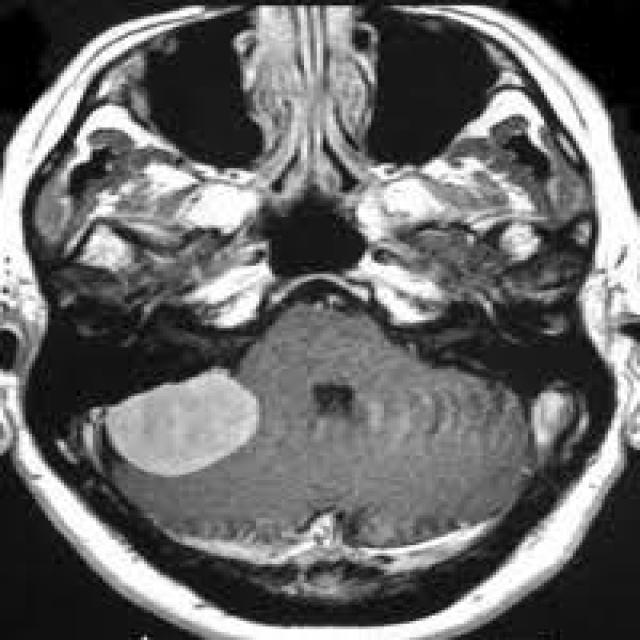Tumor: (106, 369, 259, 479)
